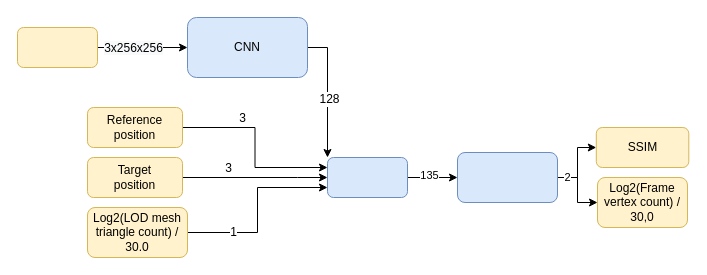
Some shapes in this 707 by 275 pixel diagram are drawn without their labels. Each missing label, with the box of its shape:
Concat: (326, 156, 408, 198)
Feed Forward Network: (456, 152, 558, 202)
Projections: (16, 26, 98, 68)
